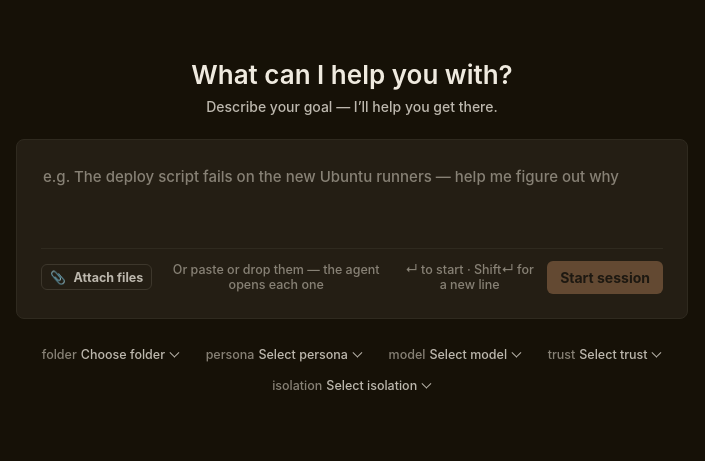
Scenario: Launchpad › shows an error toast when session creation fails
Replace the text in the text box named "Describe your goal" with "Fix the deploy script" at (352, 198), box [41,164,663,232]
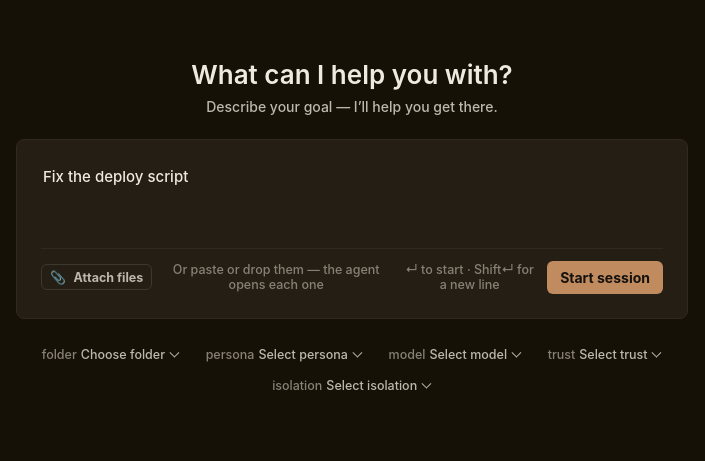
Click the button "Start session" at (605, 277), box [547,261,663,294]
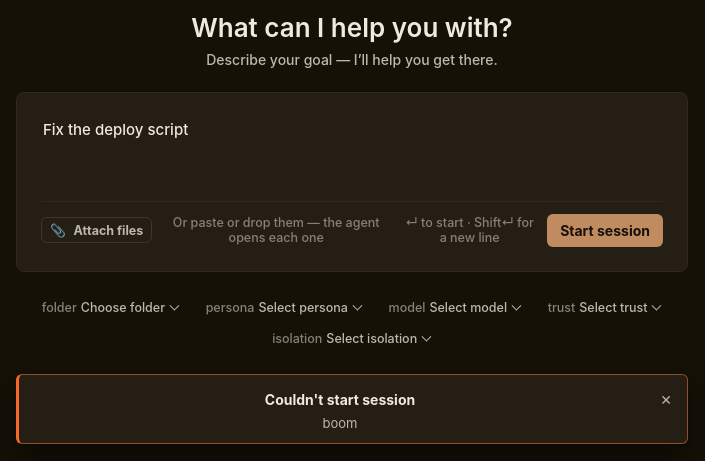
Expected: the text "boom" is shown, [322,415,357,431]
